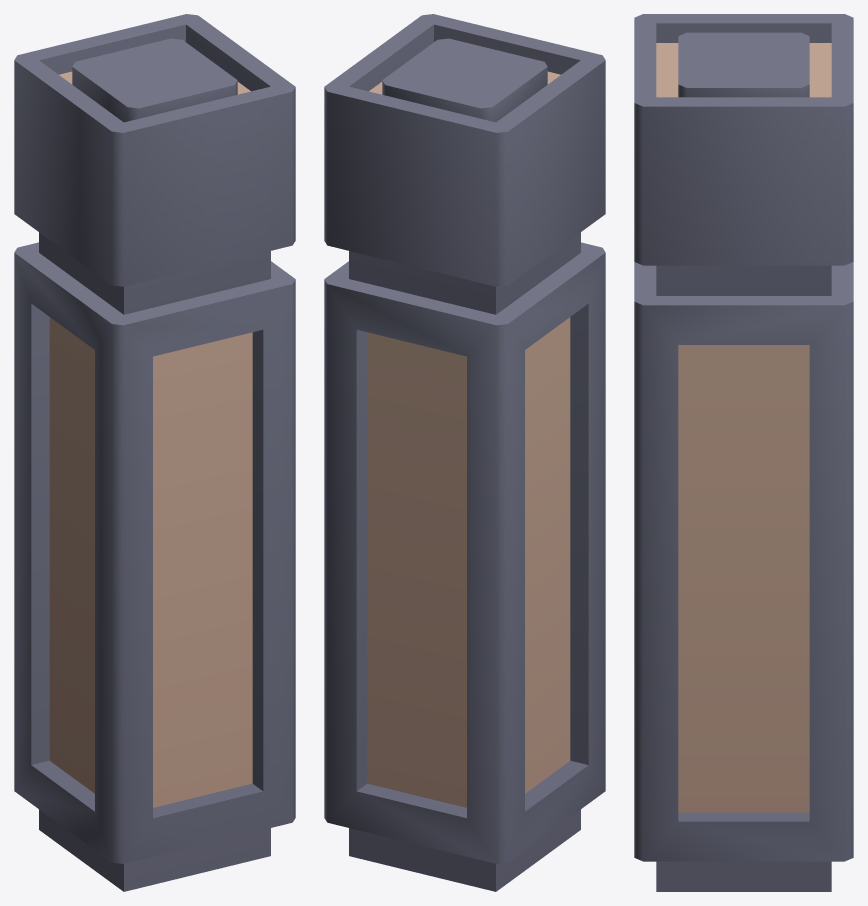
3 renders of one model, left to right at view 1: azimuth 30°, elevation 25°; view 2: azimuth 150°, elevation 25°; view 3: azimuth 270°, elevation 25°, orthographic. The views are drawn at different scales.
Visible parts, largest first — view 1: low-detail-building-a; view 2: low-detail-building-a; view 3: low-detail-building-a.
Boxes of the visible parts, bbox=[...] form: low-detail-building-a: bbox=[14, 14, 295, 891]; low-detail-building-a: bbox=[324, 14, 605, 891]; low-detail-building-a: bbox=[634, 14, 853, 891].
Size of the model in its own units: 0.5 by 2 by 0.5.
1 material, 1 textured.
